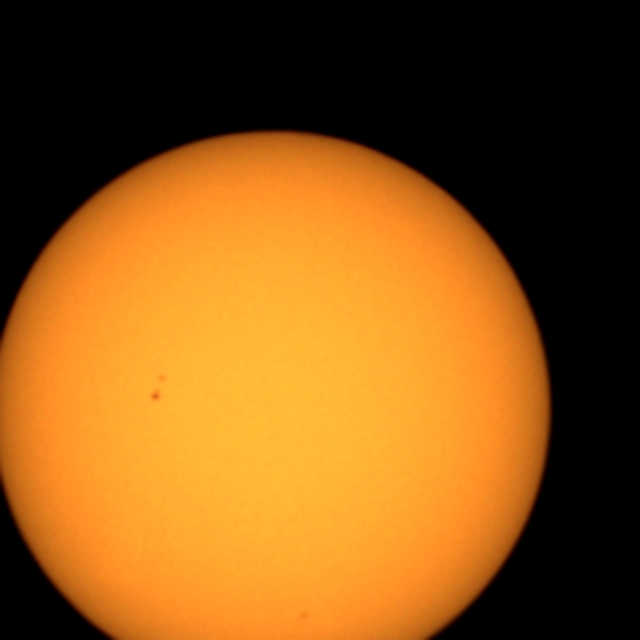sunspot: (147, 370, 170, 406)
